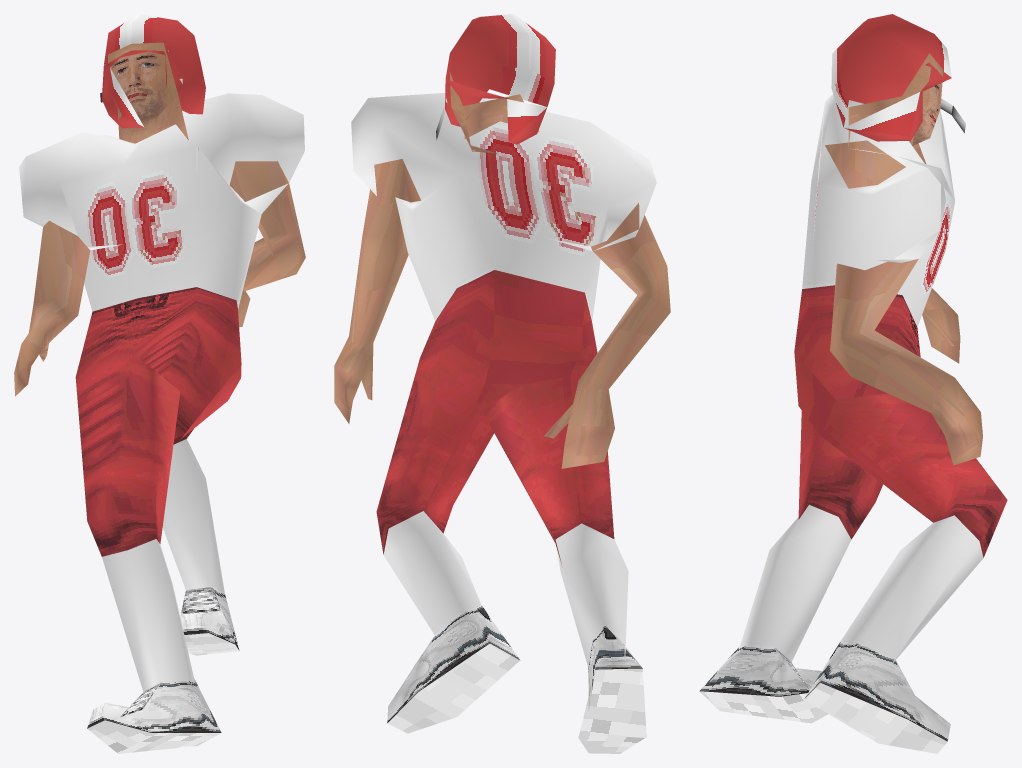
Rendered from ps2_save-icons_maddennfl2002ncaadraftclasses.glb.
3 renders of one model, left to right at view 1: azimuth 30°, elevation 25°; view 2: azimuth 150°, elevation 25°; view 3: azimuth 270°, elevation 25°, orthographic. The views are drawn at different scales.
Parts seen in each view (by area): view 1: view.ico; view 2: view.ico; view 3: view.ico.
Boxes of the visible parts, box(x1,y1,x2,y2) form: view.ico: box(14, 14, 305, 753); view.ico: box(334, 14, 670, 753); view.ico: box(699, 14, 1007, 753).
Size of the model in its own units: 1.92 by 4.52 by 1.76.
1 material, 1 textured.
